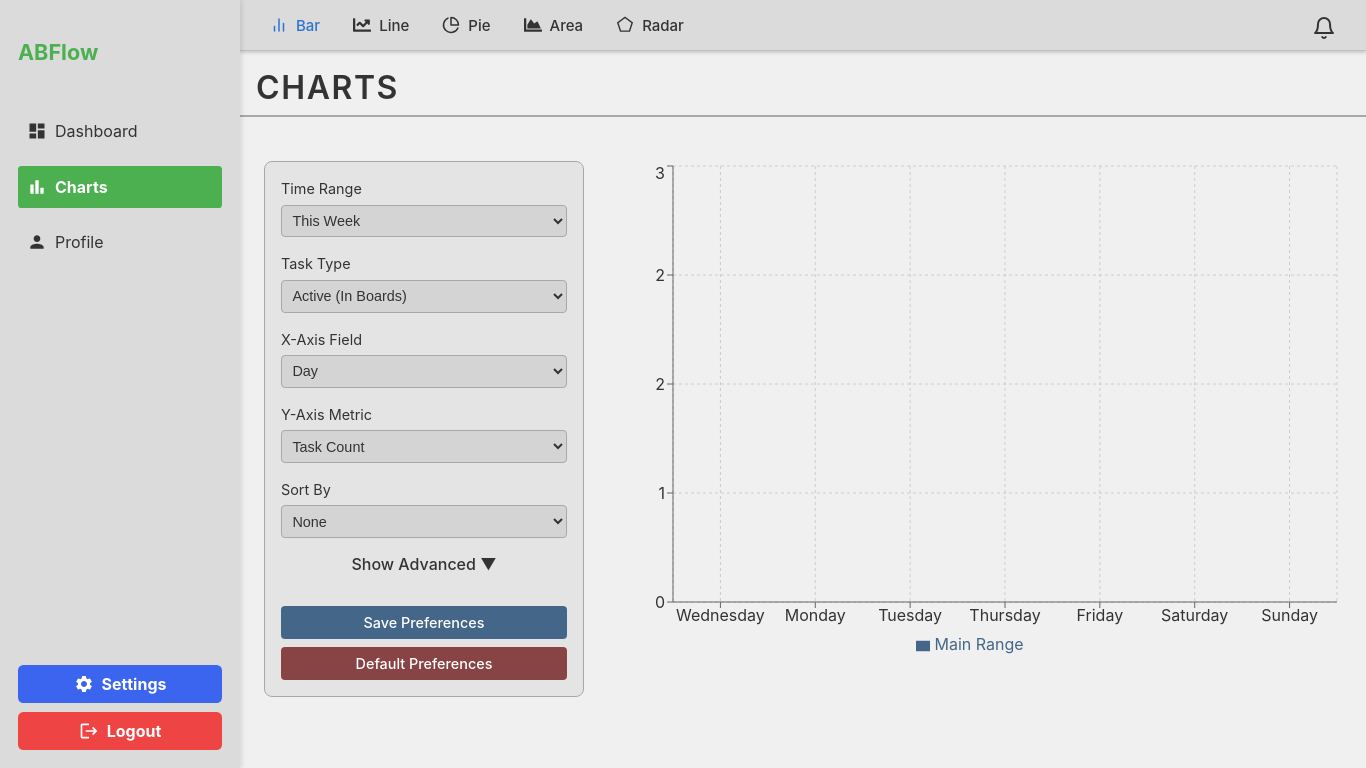
it: Charts Component Unit Tests › Status MultiSelect filter
Click the button "Show Advanced ▼": (424, 564) [281,554,567,574]
(page scrolled)
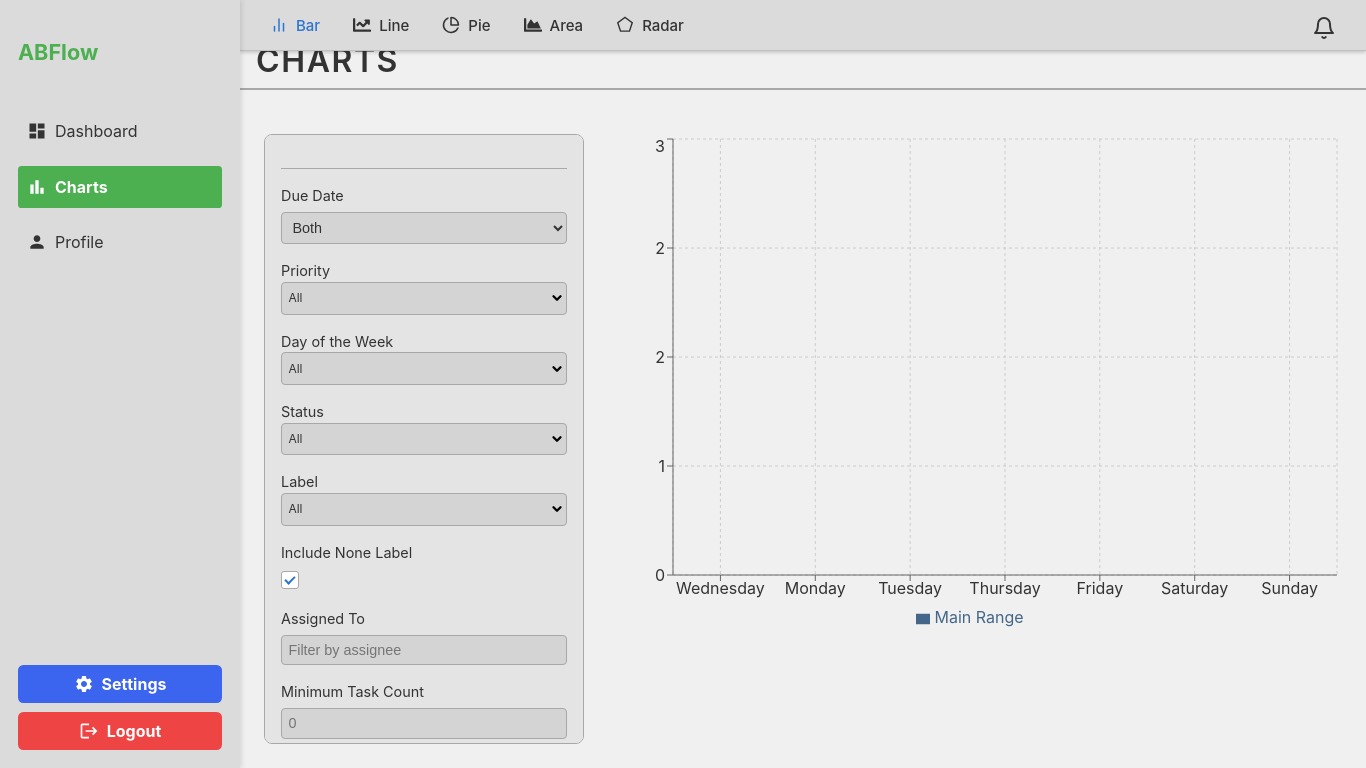
Click the element with class "dropdown-header" below "Status": (424, 439) [281,423,567,456]
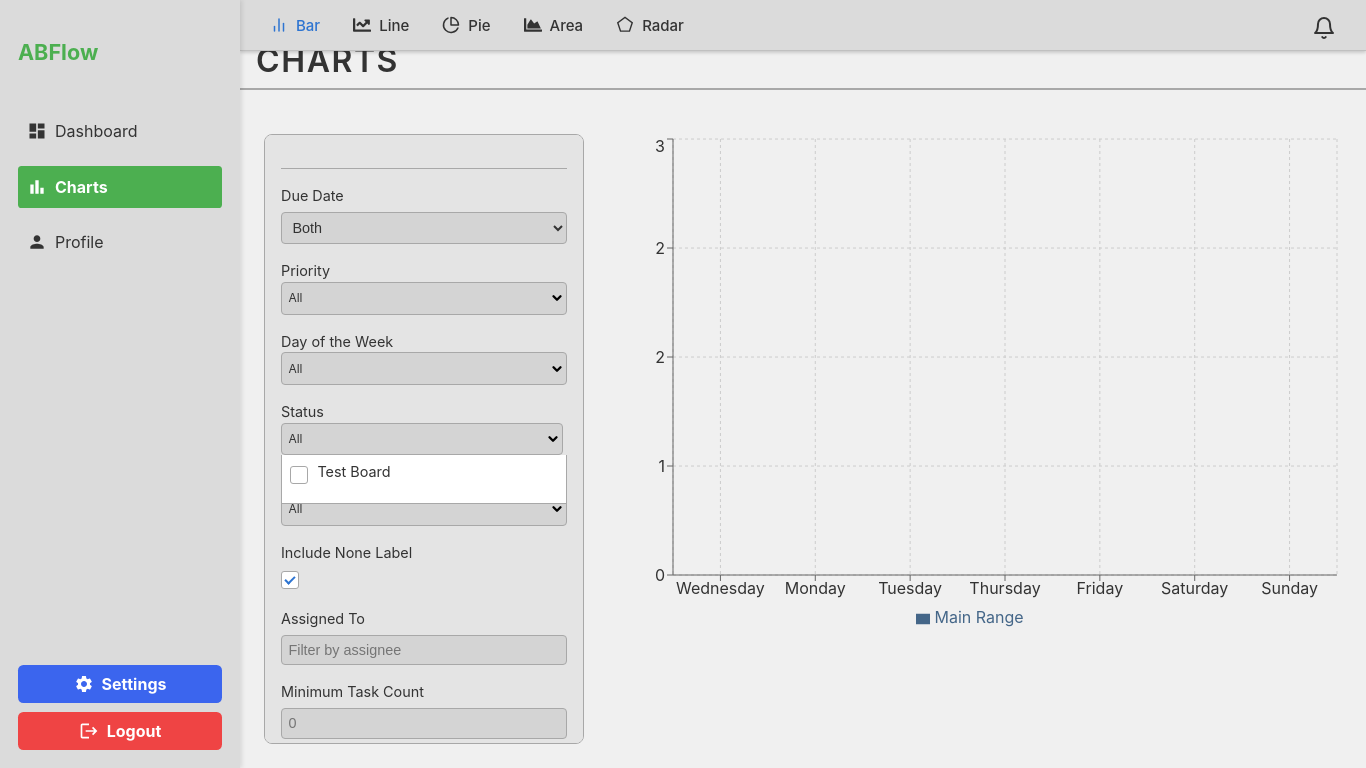
Click the checkbox labelled "Test Board": (299, 476) [290,466,308,484]
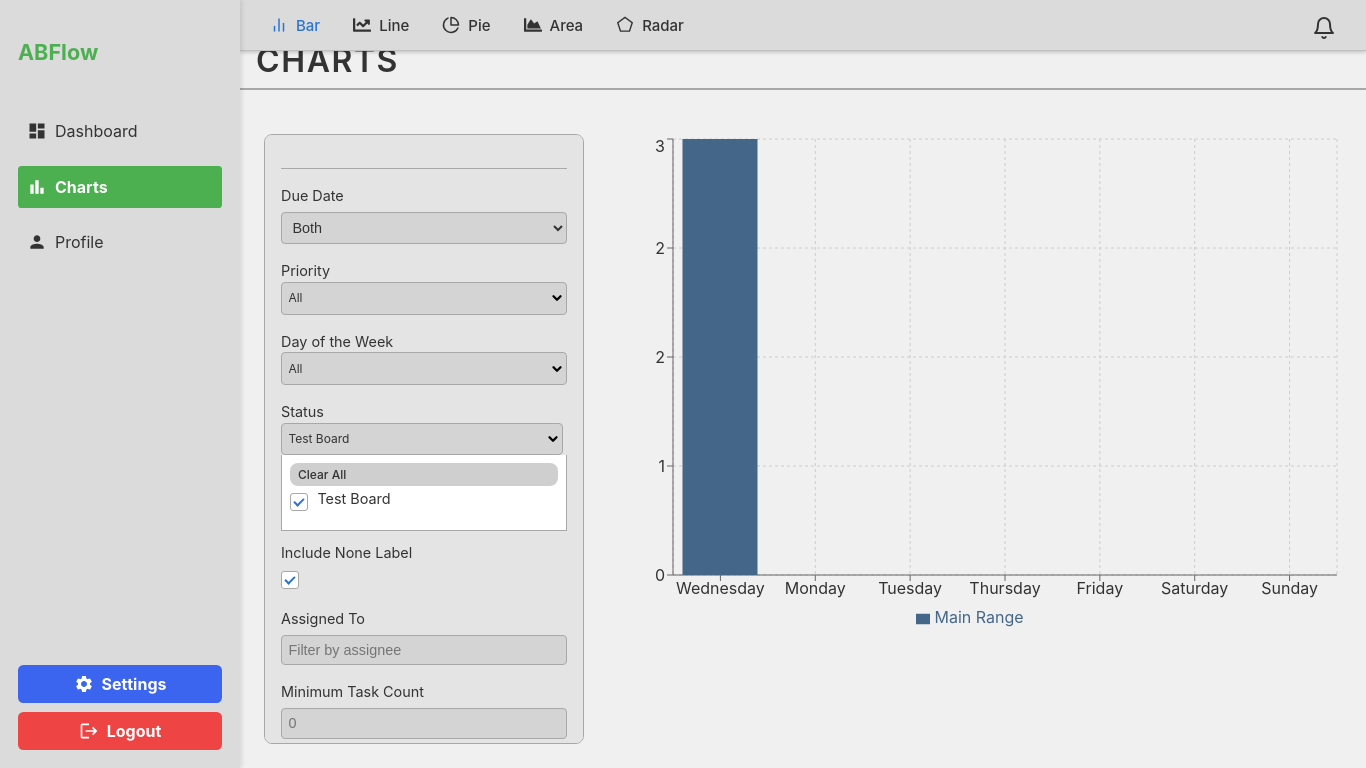
Result: the 1st element with class "dropdown-header" reads "Test Board" at [288,431,349,446]
Click the checkbox labelled "Test Board": (299, 502) [290,494,308,512]
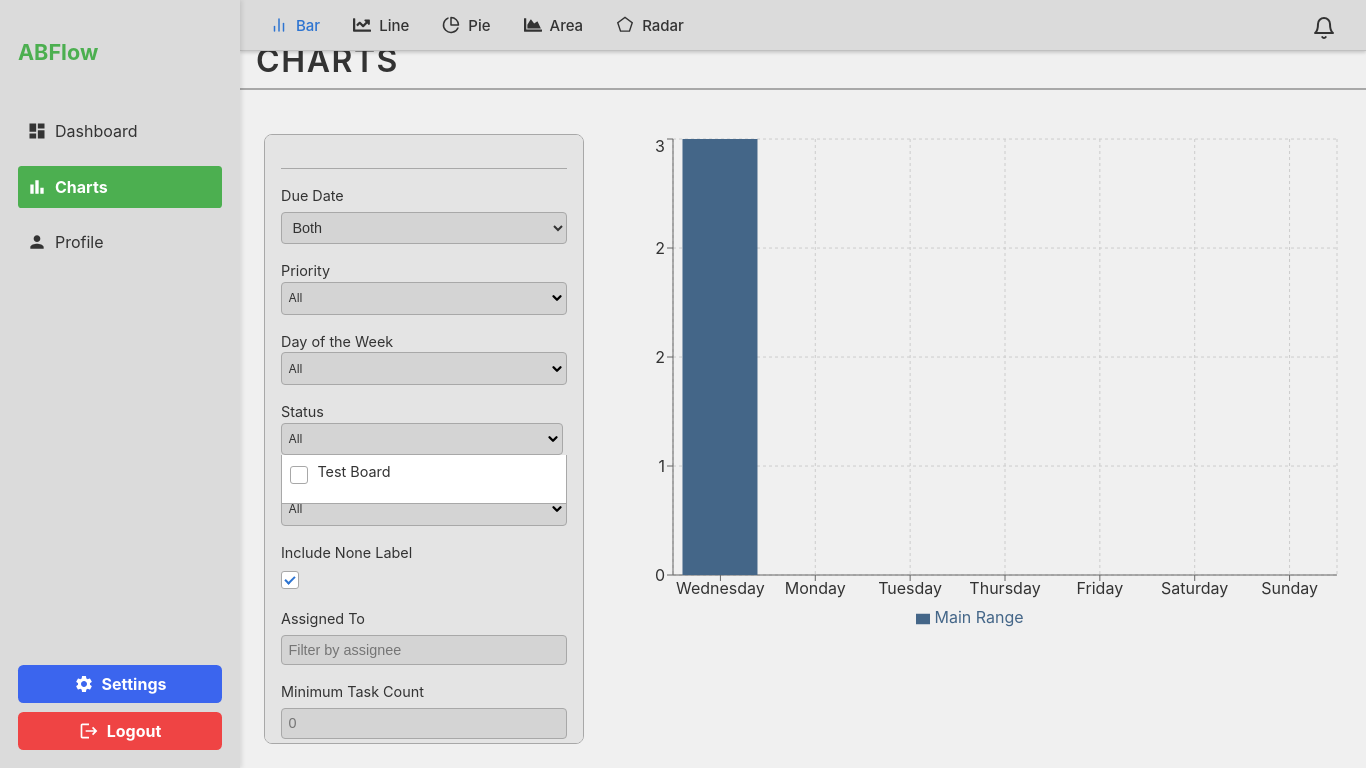
Result: the element with class "dropdown-header" below "Status" reads "All" at [288,431,302,446]
